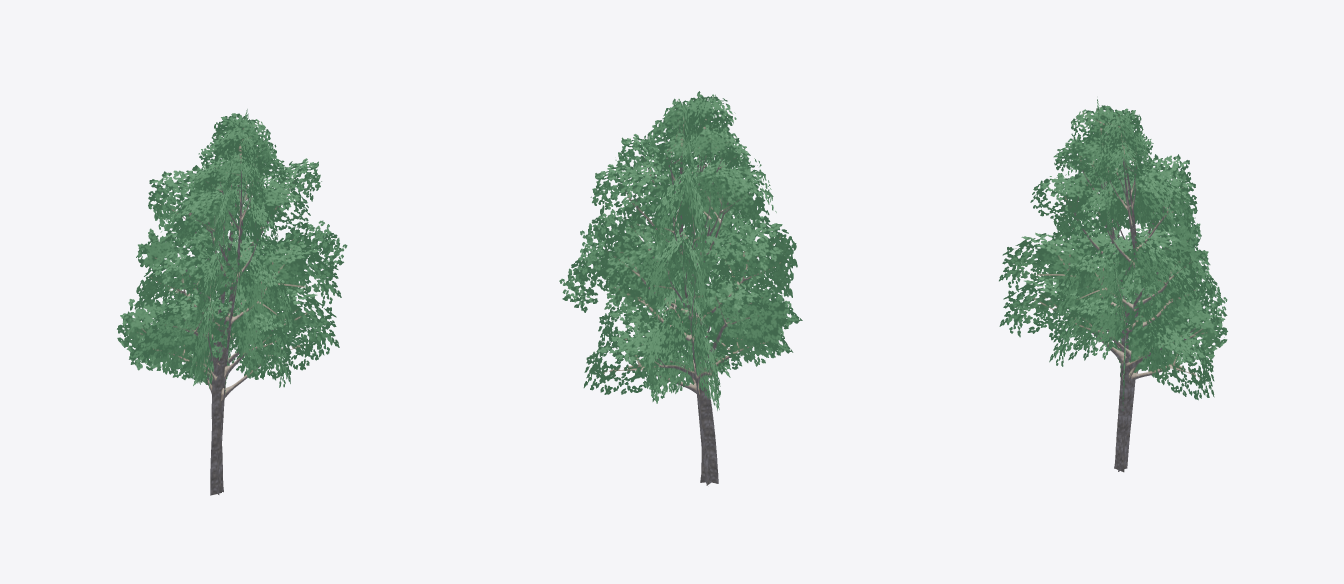
File: Tree2_Low.fbx
The picture shows the model from 3 angles, left to right: view 1: azimuth 30°, elevation 25°; view 2: azimuth 150°, elevation 25°; view 3: azimuth 270°, elevation 25°; orthographic projection.
Visible parts, largest first — view 1: MidBoardSideBirch1.003; view 2: MidBoardSideBirch1.003; view 3: MidBoardSideBirch1.003.
Part boxes in pixels (x1,y1,x2,y2): MidBoardSideBirch1.003: (117,109,347,495); MidBoardSideBirch1.003: (559,91,802,485); MidBoardSideBirch1.003: (999,99,1227,472).
Bounding box in the file's own units: 808 × 808 × 808.
